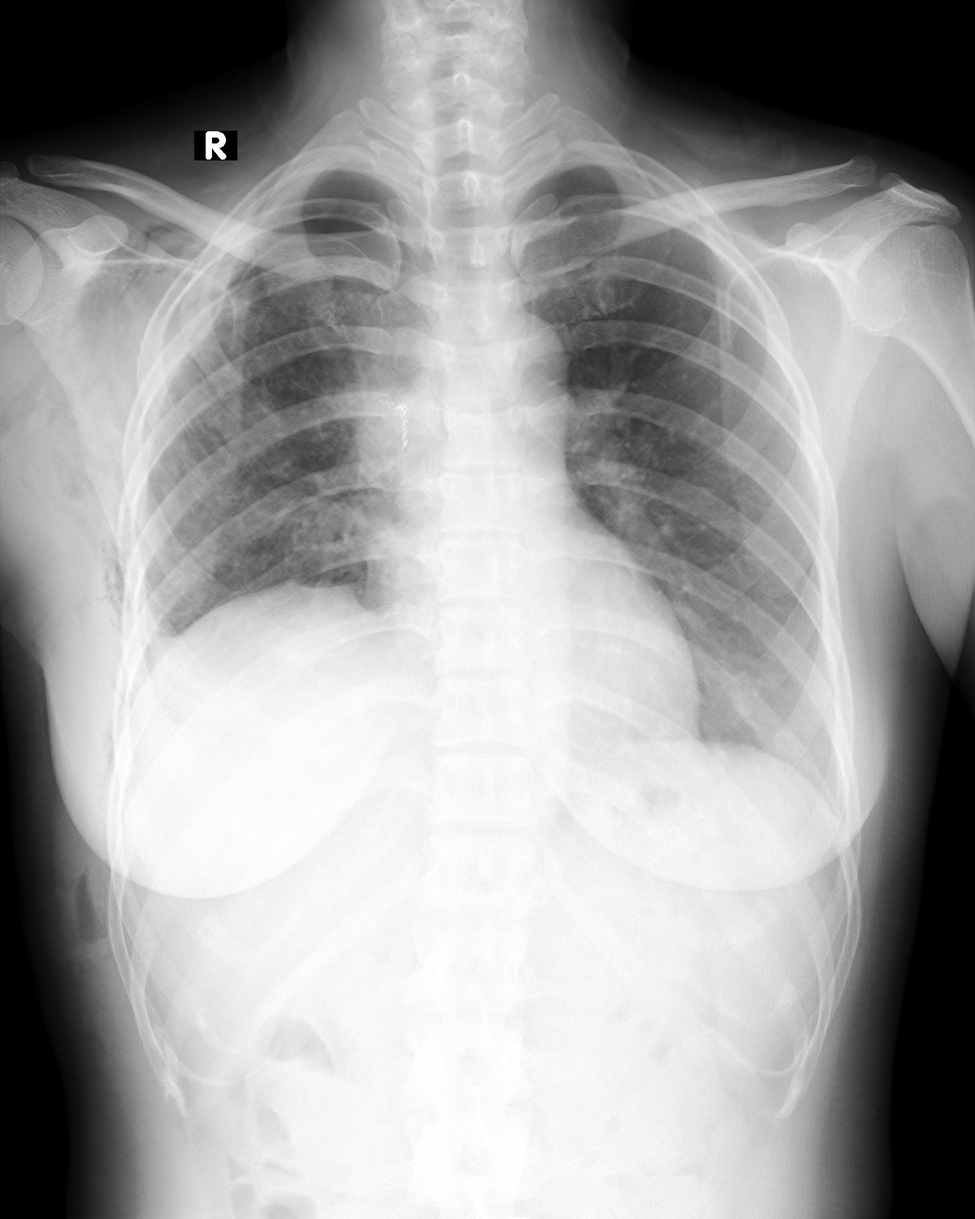Pleural thickening: (129, 611, 184, 712)
